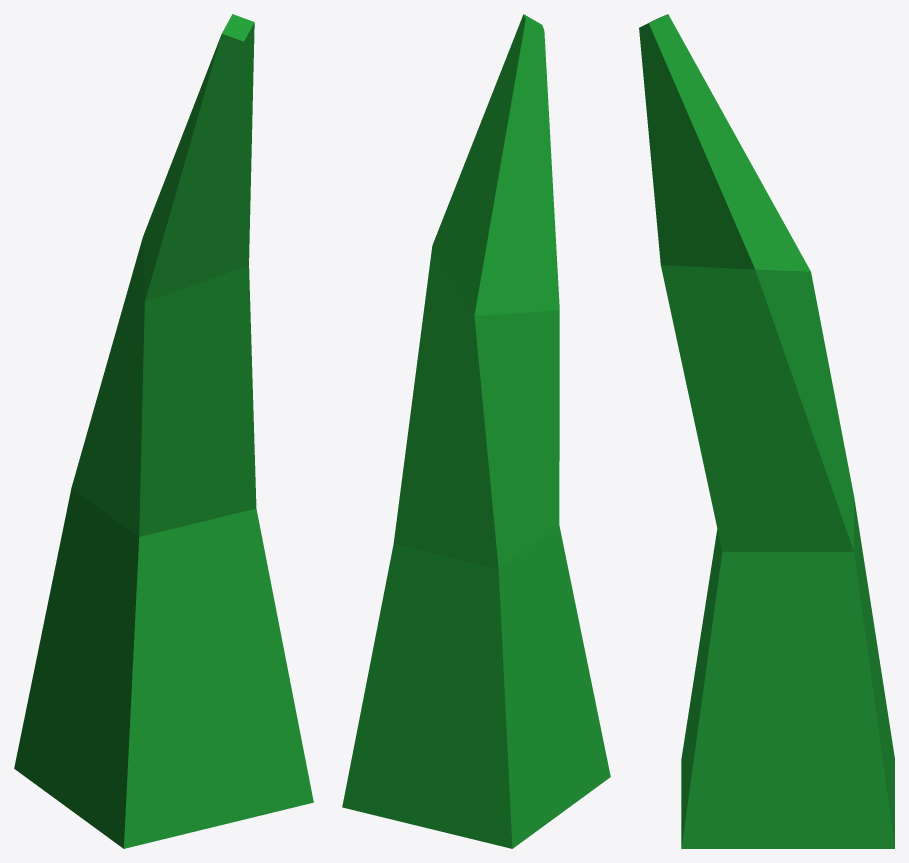
Rendered from Evre1.fbx.
The picture shows the model from 3 angles, left to right: view 1: azimuth 30°, elevation 25°; view 2: azimuth 150°, elevation 25°; view 3: azimuth 270°, elevation 25°; orthographic projection. The views are drawn at different scales.
Visible parts, largest first — view 1: Cube; view 2: Cube; view 3: Cube.
Boxes of the visible parts, x1,y1,x2,y2 form: Cube: [14, 14, 313, 848]; Cube: [342, 14, 610, 848]; Cube: [639, 14, 894, 848].
Bounding box in the file's own units: 34.13 × 140 × 40.92.
